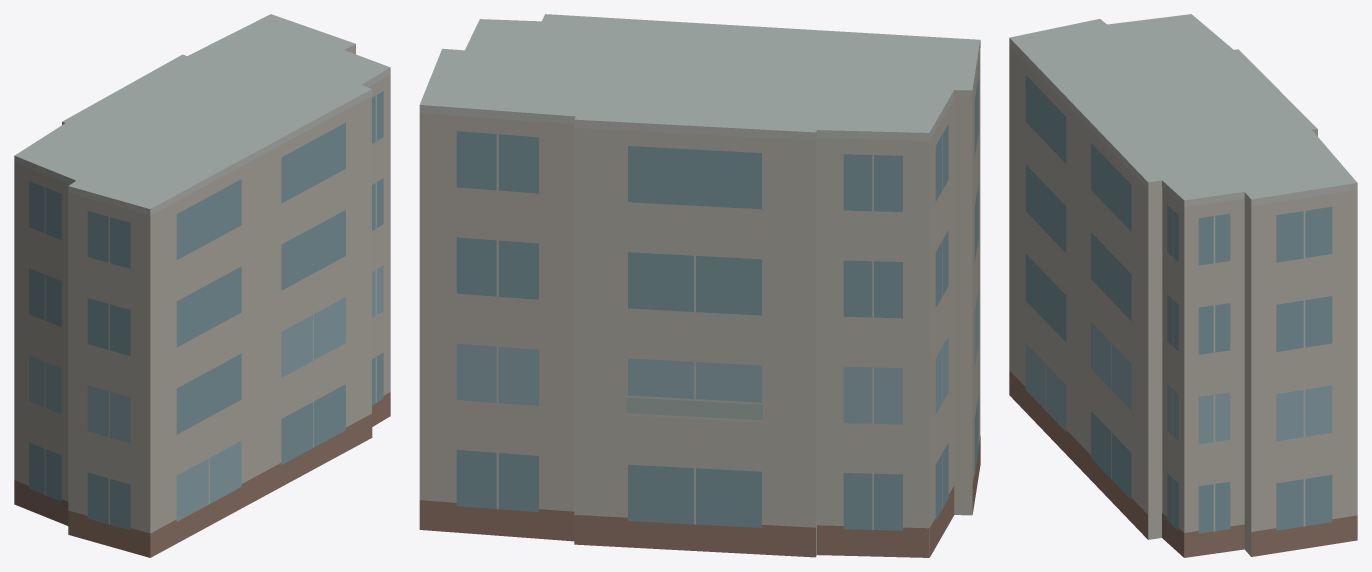
The model's file is survey-upis-32540299.glb.
3 views of the same model, side by side, from view 1: azimuth 30°, elevation 25°; view 2: azimuth 150°, elevation 25°; view 3: azimuth 270°, elevation 25° (orthographic). The views are drawn at different scales.
Visible parts, largest first — view 1: survey-upis-32540299.tmp; view 2: survey-upis-32540299.tmp; view 3: survey-upis-32540299.tmp.
Boxes of the visible parts, x1=… form: survey-upis-32540299.tmp: x1=14, y1=14, x2=390, y2=557; survey-upis-32540299.tmp: x1=419, y1=14, x2=980, y2=557; survey-upis-32540299.tmp: x1=1009, y1=14, x2=1357, y2=557.
Size of the model in its own units: 14.32 by 12.8 by 11.31.
